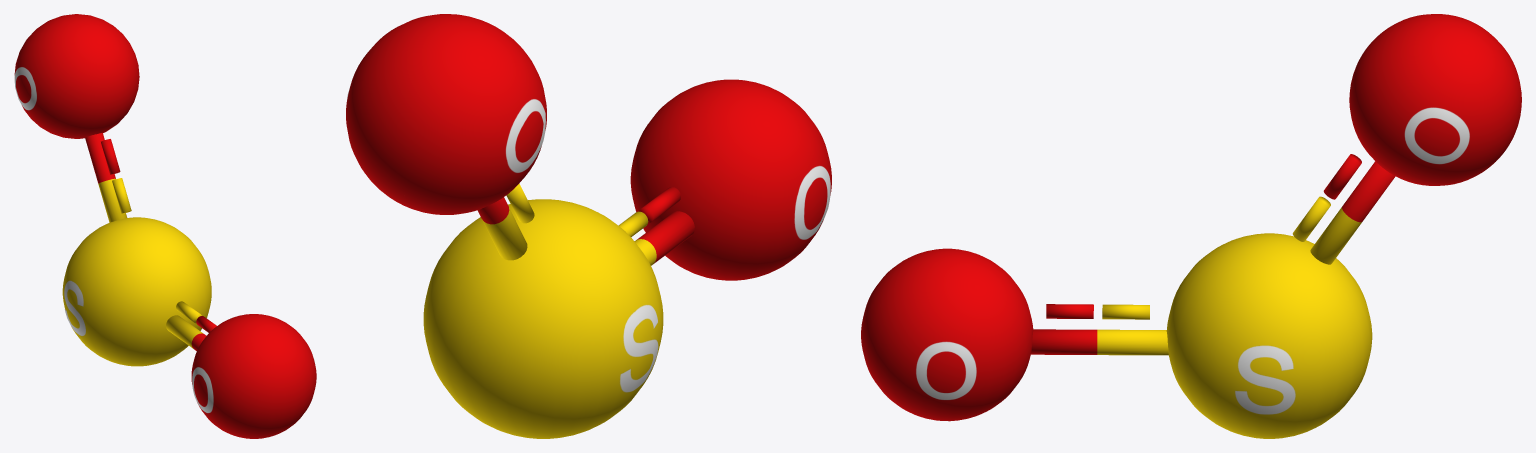
The model's file is dioxido_enxofre_2.glb.
3 renders of one model, left to right at view 1: azimuth 30°, elevation 25°; view 2: azimuth 150°, elevation 25°; view 3: azimuth 270°, elevation 25°, orthographic. The views are drawn at different scales.
Visible parts, largest first — view 1: Mol molde 36; view 2: Mol molde 36; view 3: Mol molde 36.
Part boxes in pixels (left/top/right/bottom): Mol molde 36: left=14, top=14, right=316, bottom=438; Mol molde 36: left=346, top=14, right=831, bottom=438; Mol molde 36: left=861, top=14, right=1521, bottom=438.
Size of the model in its own units: 0.3641 by 0.7958 by 1.17.
2 materials, 2 textured.
